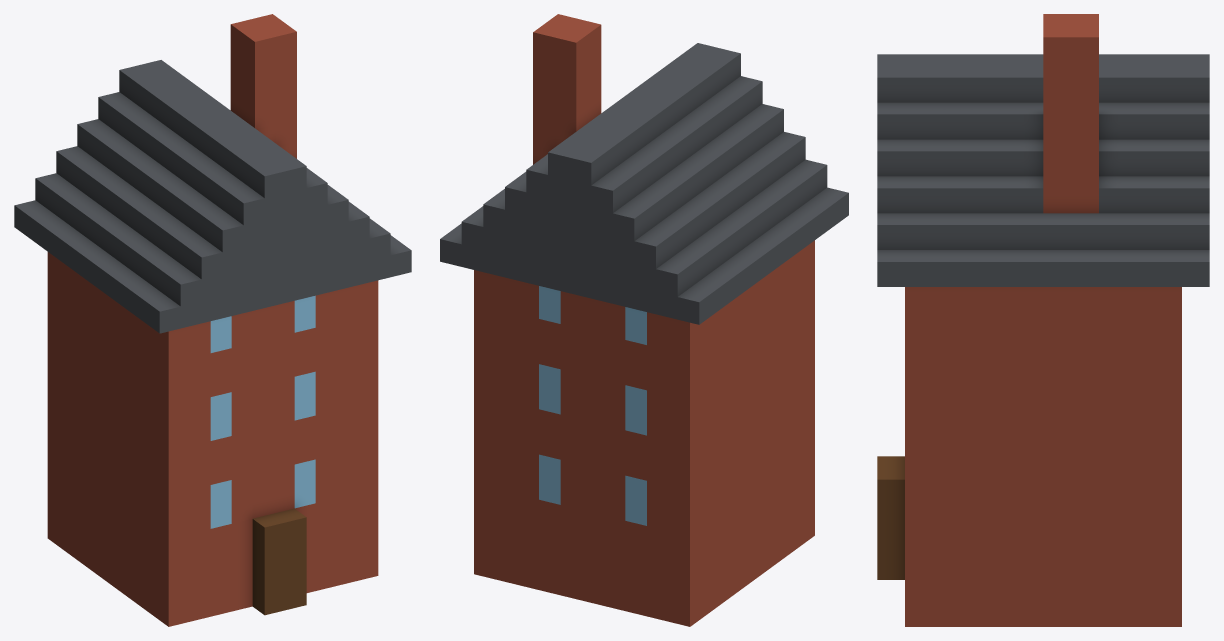
Rendered from c_brick.glb.
The picture shows the model from 3 angles, left to right: view 1: azimuth 30°, elevation 25°; view 2: azimuth 150°, elevation 25°; view 3: azimuth 270°, elevation 25°; orthographic projection. The views are drawn at different scales.
Parts seen in each view (by area): view 1: c_brick_body; view 2: c_brick_body; view 3: c_brick_body.
Boxes of the visible parts, x1,y1,x2,y2 form: c_brick_body: [14, 14, 411, 626]; c_brick_body: [440, 14, 848, 626]; c_brick_body: [877, 14, 1209, 626].
Bounding box in the file's own units: 0.75 × 1.44 × 0.75.
Materials: 1 (1 with a texture image).
